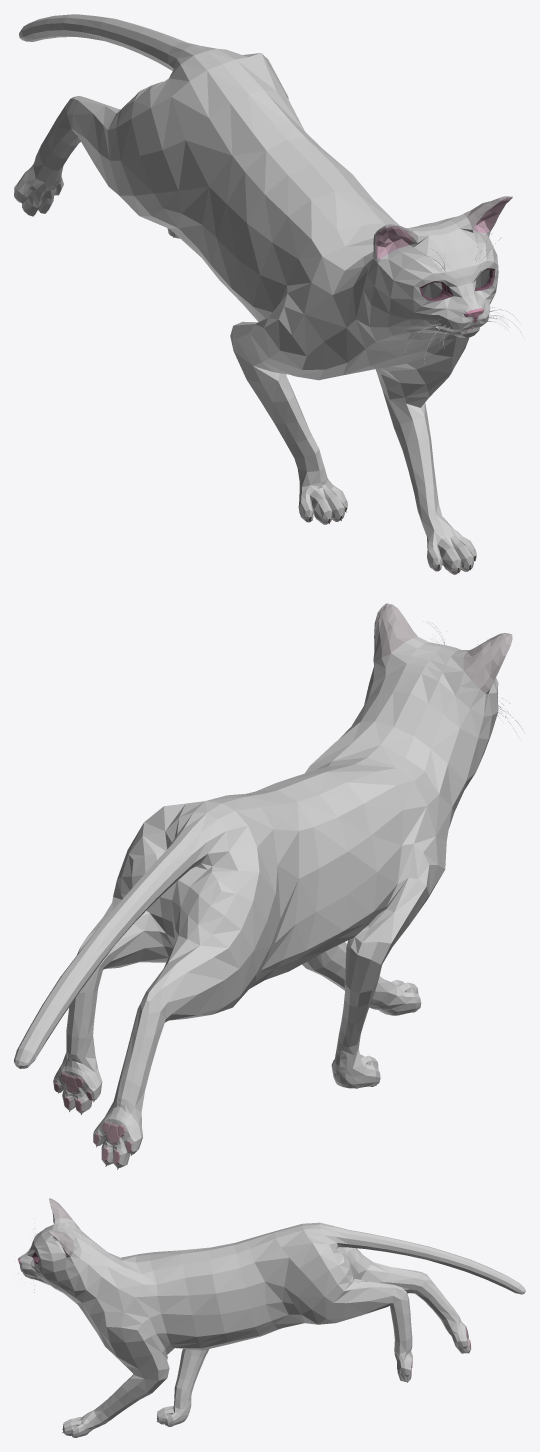
Rendered from Run_F_05.glb.
3 views of the same model, one above another, from view 1: azimuth 30°, elevation 25°; view 2: azimuth 150°, elevation 25°; view 3: azimuth 270°, elevation 25° (orthographic). The views are drawn at different scales.
Parts seen in each view (by area): view 1: Run_F_05; view 2: Run_F_05; view 3: Run_F_05.
Boxes of the visible parts, left/top/right/bottom form: Run_F_05: left=14, top=14, right=524, bottom=574; Run_F_05: left=14, top=603, right=522, bottom=1169; Run_F_05: left=18, top=1198, right=525, bottom=1437.
Bounding box in the file's own units: 0.1546 × 0.3456 × 0.7576.
Materials: 1 (1 with a texture image).
